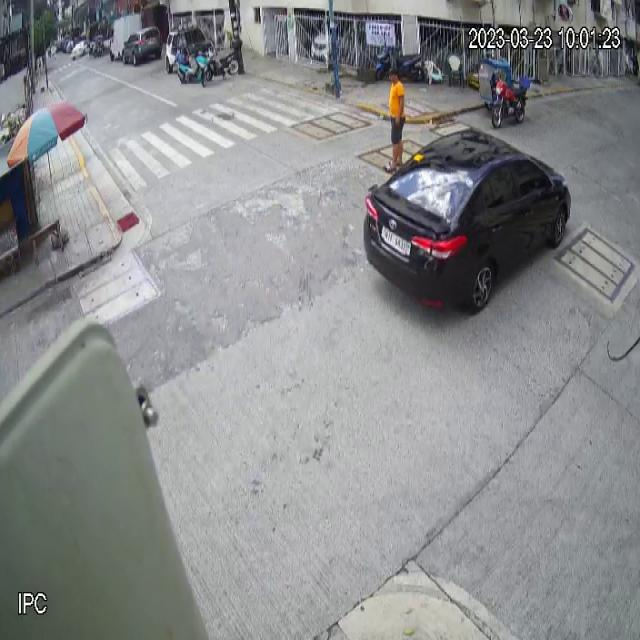Car: (362, 126, 572, 314)
Tricycle: (478, 58, 530, 128)
